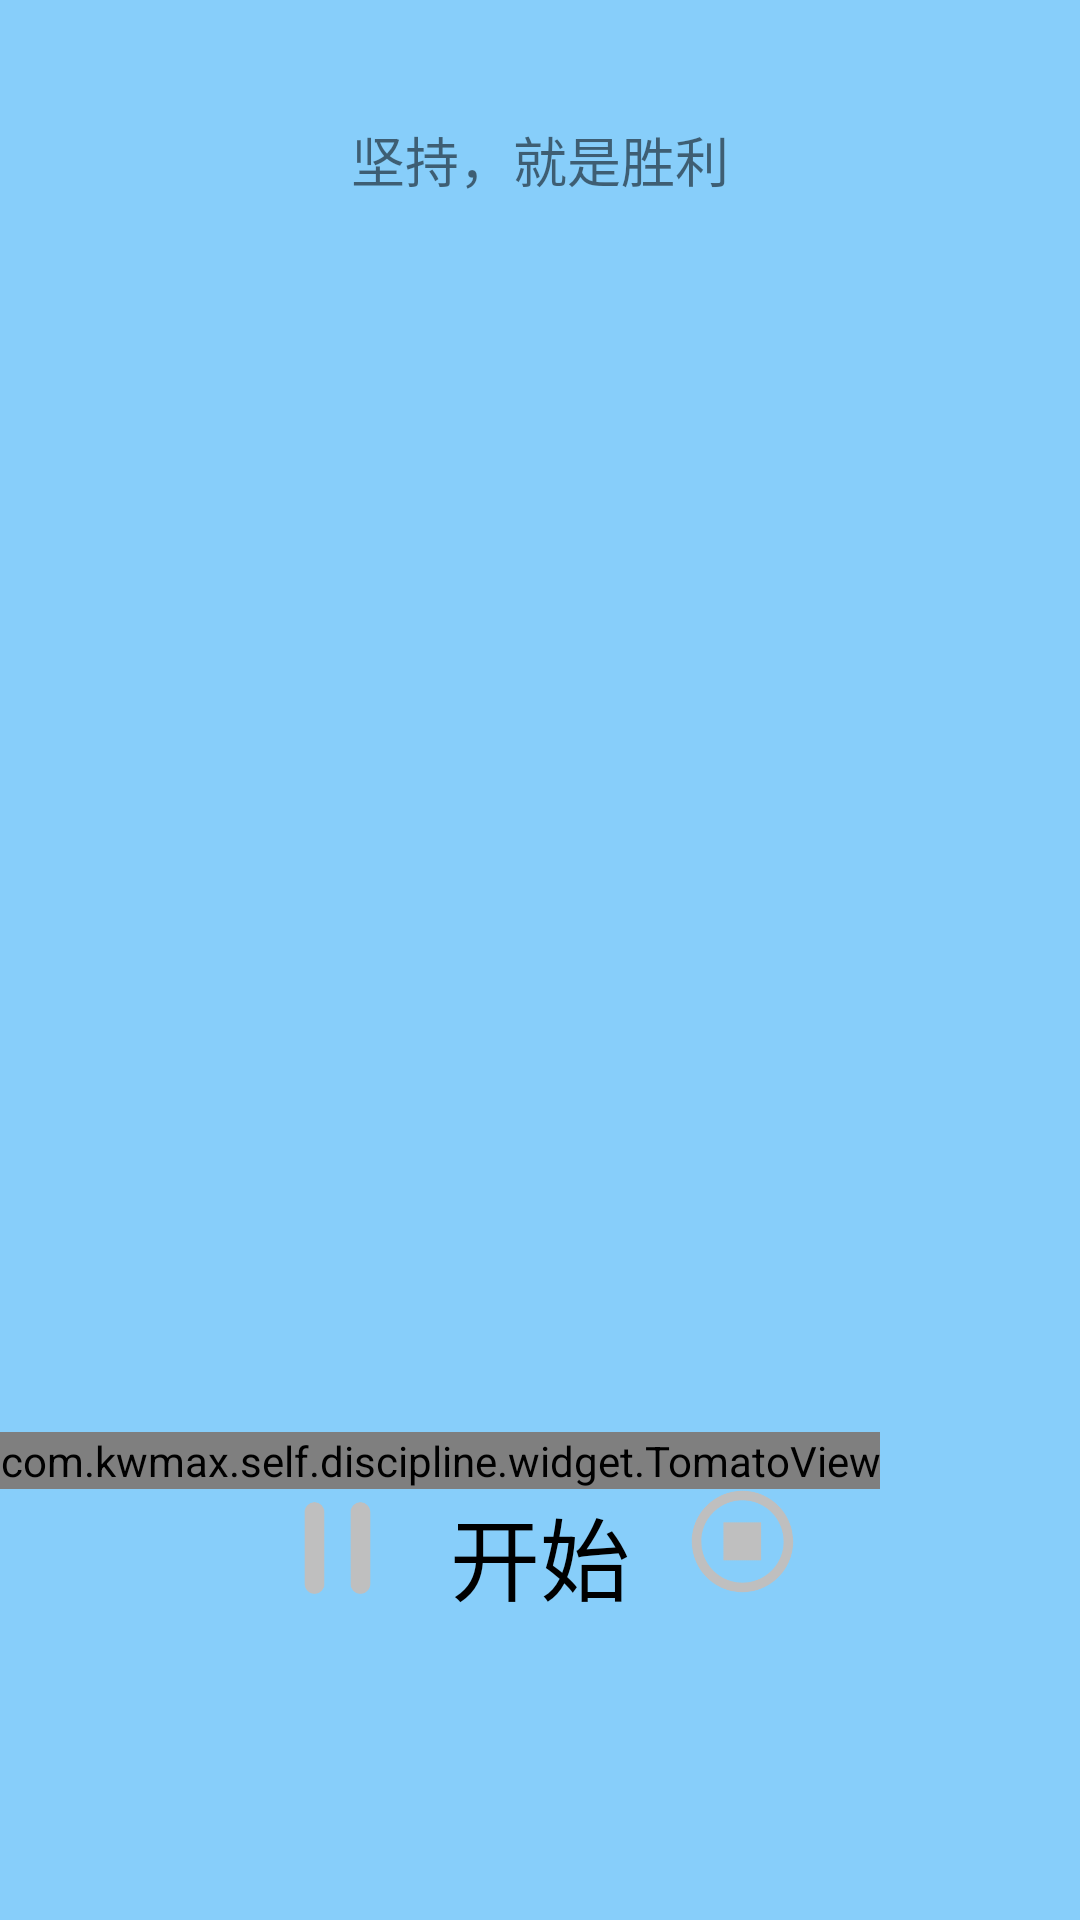

Icon bounding boxes for this 1080px×1920px phone screenshot, format rect(x1, y1, x2, y2):
tomato pause: rect(305, 1502, 370, 1594)
tomato stop: rect(692, 1491, 793, 1592)
